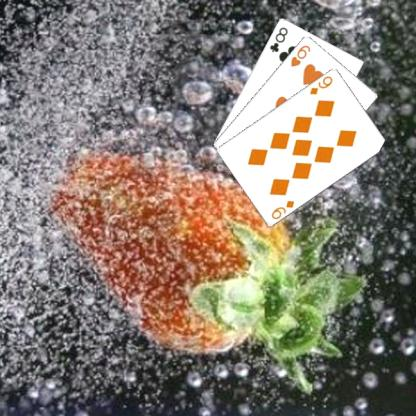6H: (288, 42, 312, 68)
8C: (266, 24, 289, 53)
9D: (307, 72, 334, 96), (268, 197, 296, 220)
